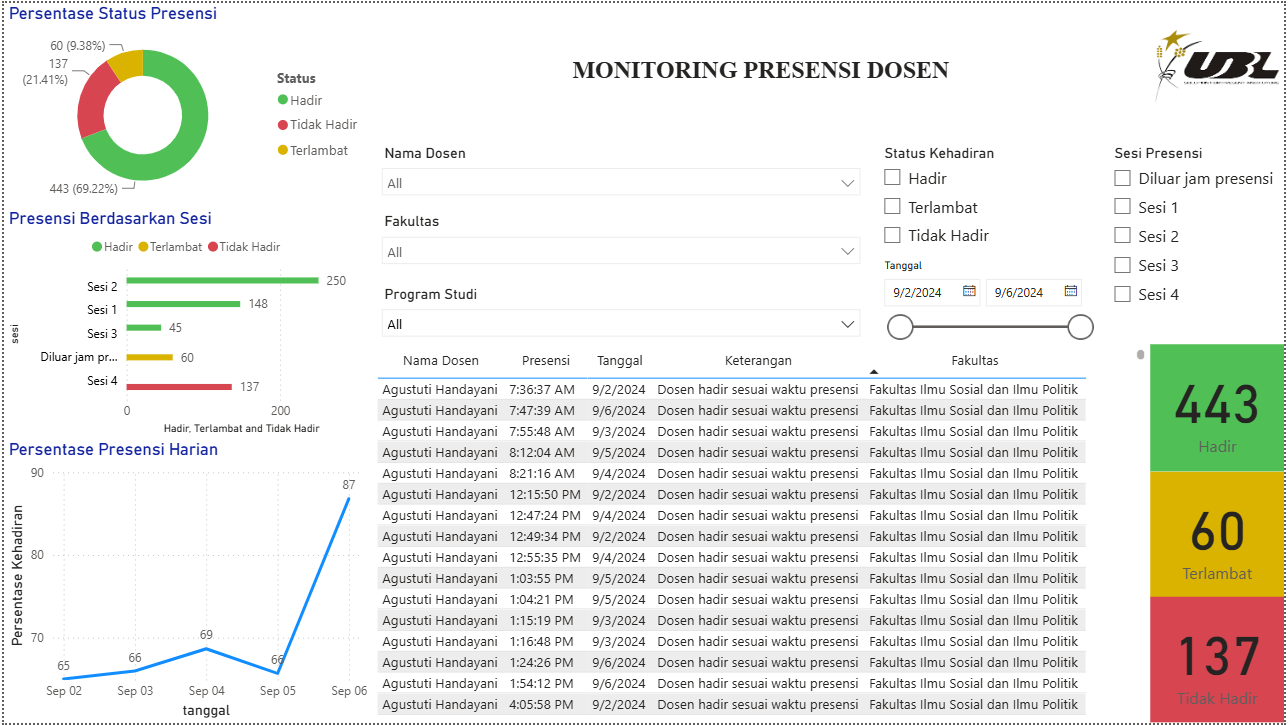

Layout of this report page (visuals, bound fields, positions):
{"tool":"powerbi","page":{"name":"MONITORING PRESENSI DOSEN","canvas":[1280,720],"ordinal":0},"visuals":[{"type":"tableEx","fields":{"Values":["TabelFakta.nama_dosen","DataFingerprint.presensi","DataFingerprint.tanggal","DimensiStatus.keterangan","DimensiFakultas.fakultas"]},"box":[367.5,341.2,778.8,378.8],"z":0},{"type":"slicer","fields":{"Values":["DimensiProdi.program_studi"]},"box":[368.1,277.6,498.9,66],"z":1000},{"type":"slicer","fields":{"Values":["DimensiWaktu.tanggal"]},"box":[867,250.7,229.9,92.9],"z":2000},{"type":"slicer","fields":{"Values":["DimensiFakultas.fakultas"]},"box":[368.1,205.4,498.9,72.1],"z":3000},{"type":"slicer","fields":{"Values":["DimensiDosen.nama_dosen"]},"box":[368.1,135.7,498.9,69.7],"z":4000},{"type":"slicer","fields":{"Values":["TabelFakta.sesi"]},"box":[1096.9,135.7,183.4,205.4],"z":5000},{"type":"slicer","fields":{"Values":["DimensiStatus.status_kehadiran"]},"box":[867,135.7,229.9,114.9],"z":6000},{"type":"card","fields":{"Values":["TabelFakta.Tepat Waktu"]},"box":[1145.8,341.2,134.5,127.2],"z":7000},{"type":"card","fields":{"Values":["TabelFakta.Terlambat"]},"box":[1145.8,468.3,134.5,126],"z":8000},{"type":"card","fields":{"Values":["TabelFakta.Total Tidak Hadir"]},"box":[1145.8,594.3,134.5,126],"z":9000},{"type":"lineChart","title":"Persentase Presensi Harian","fields":{"Y":["TabelFakta.Persentase Kehadiran"],"Category":["DimensiWaktu.tanggal","DimensiWaktu.tahun","DimensiWaktu.bulan","DimensiWaktu.hari"]},"box":[0,436.6,368.1,283.7],"z":10000},{"type":"donutChart","title":"Persentase Status Presensi","fields":{"Category":["DimensiStatus.status_kehadiran"],"Y":["DimensiStatus.Total Status"]},"box":[0,0,368.1,205.4],"z":11000},{"type":"textbox","box":[367.5,48.8,778.8,37.5],"z":12000},{"type":"clusteredBarChart","title":"Presensi Berdasarkan Sesi","fields":{"Y":["TabelFakta.Hadir","TabelFakta.Terlambat","TabelFakta.Tidak Hadir"],"Category":["TabelFakta.sesi","DimensiFakultas.fakultas","DimensiProdi.program_studi","TabelFakta.nama_dosen"]},"box":[0,205.4,368.1,231.1],"z":13000},{"type":"image","box":[1146.2,0,133.8,127.5],"z":14000}]}

Visuals, with their boxes in screenshot pixels (x1, y1, x2, y2), scaled from the page's 1280x720 canvas onto the 1288x725 screenshot:
tableEx - TabelFakta.nama_dosen x DataFingerprint.presensi: locate(370, 344, 1153, 724)
slicer - DimensiProdi.program_studi: locate(370, 280, 872, 346)
slicer - DimensiWaktu.tanggal: locate(872, 252, 1104, 346)
slicer - DimensiFakultas.fakultas: locate(370, 207, 872, 279)
slicer - DimensiDosen.nama_dosen: locate(370, 137, 872, 207)
slicer - TabelFakta.sesi: locate(1104, 137, 1287, 343)
slicer - DimensiStatus.status_kehadiran: locate(872, 137, 1104, 252)
card - TabelFakta.Tepat Waktu: locate(1153, 344, 1287, 472)
card - TabelFakta.Terlambat: locate(1153, 472, 1287, 598)
card - TabelFakta.Total Tidak Hadir: locate(1153, 598, 1287, 724)
"Persentase Presensi Harian" lineChart: locate(0, 440, 370, 724)
"Persentase Status Presensi" donutChart: locate(0, 0, 370, 207)
textbox: locate(370, 49, 1153, 87)
"Presensi Berdasarkan Sesi" clusteredBarChart: locate(0, 207, 370, 440)
image: locate(1153, 0, 1287, 128)
